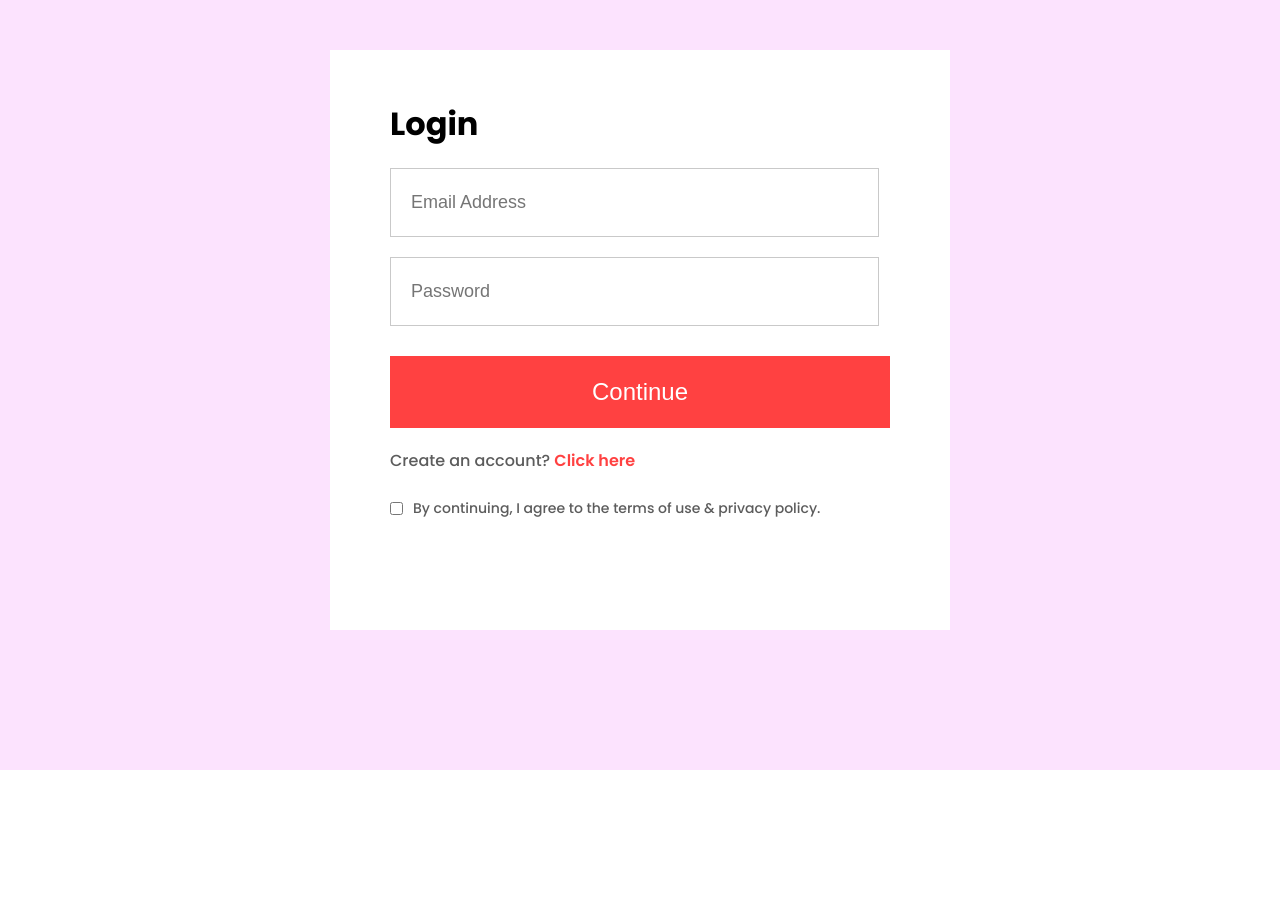
Test: LoginSignup Component › renders LoginSignup component and allows switching between Login and Sign Up
The width and height of the screenshot is (1280, 900).
Expected: the heading "Login" is shown, [390,101,478,146]
Click the text "Click here" at x=595, y=460, box [554,449,635,472]
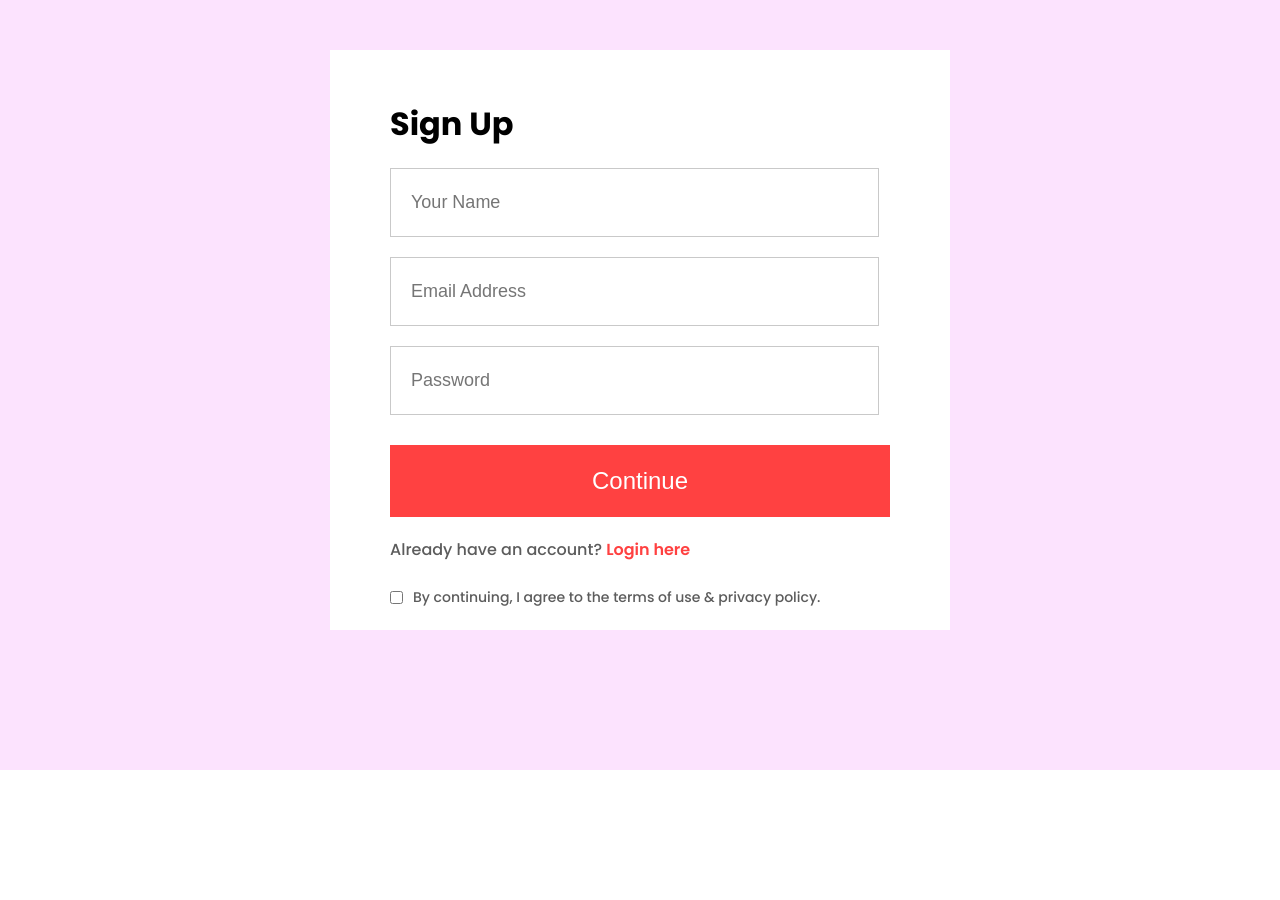
Expected: the heading "Sign Up" is shown, [390,101,514,146]
Expected: the field with placeholder "Your Name" is shown, [390,168,879,237]
